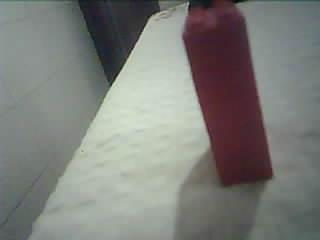lego: (180, 1, 274, 187)
